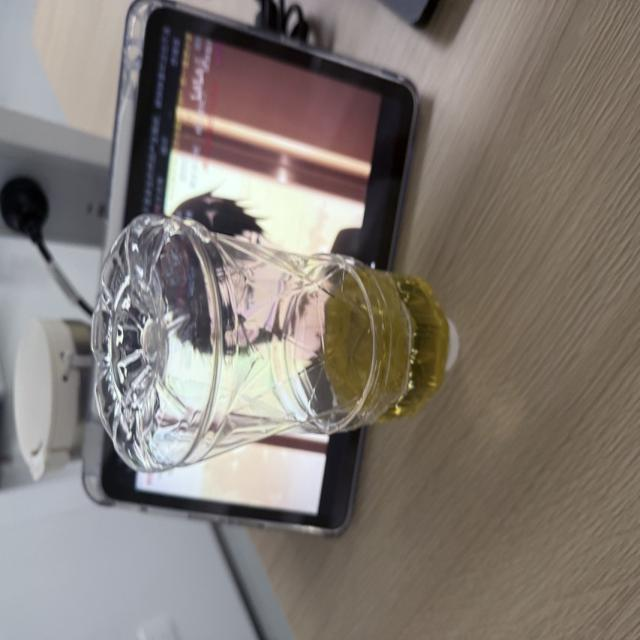low: (92, 215, 449, 471)
